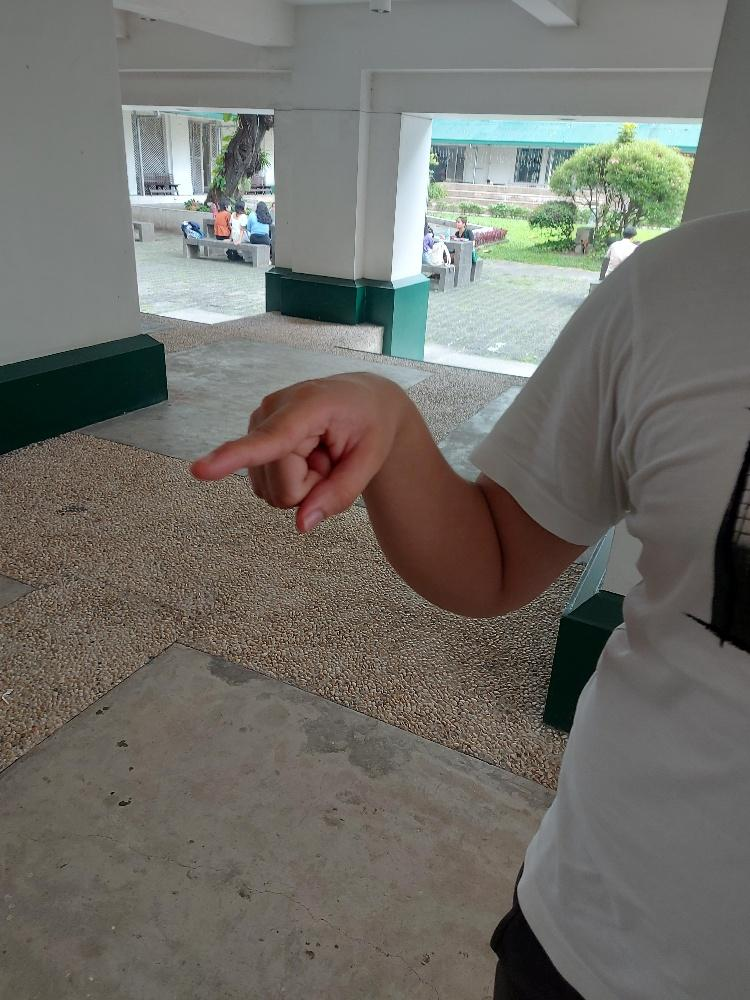z: (189, 369, 399, 533)
